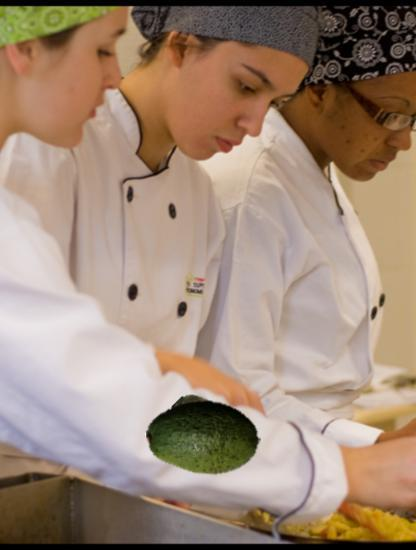Avocado: (145, 379, 261, 495)
Cactus: (164, 388, 255, 479)
